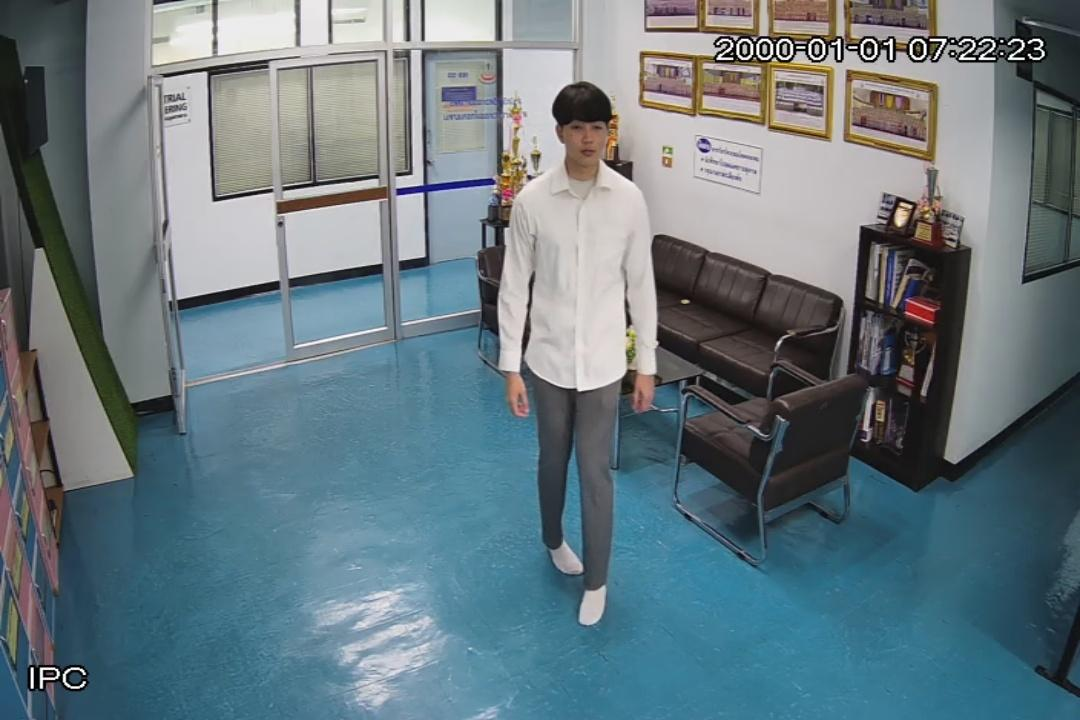normal: (499, 83, 660, 625)
